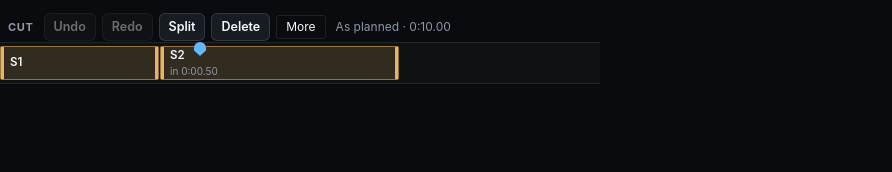
Scenario: the cut lane › shows the engine's refusal as an alert and changes nothing on screen
Click the button "Split" at [182, 27], box [159,13,206,41]
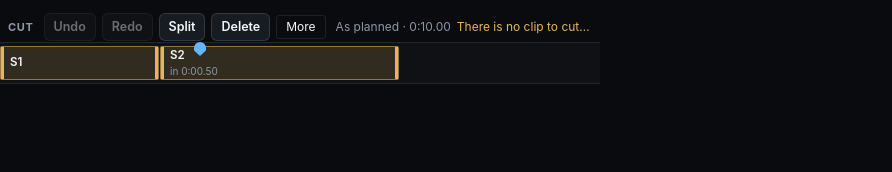
Expected: the number of buttons "S1" is 2, [8,47,151,79]; [168,47,391,79]
Result: the message shows "no clip to cut there" at [457,19,875,34]
